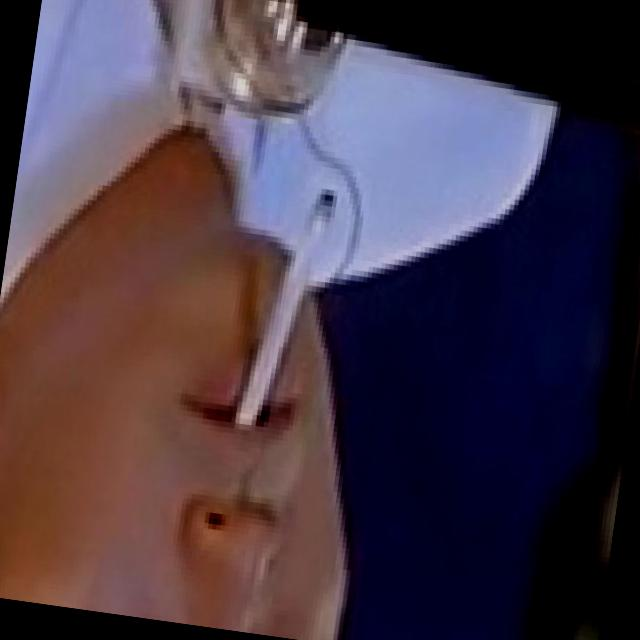smoke: (222, 190, 336, 444)
